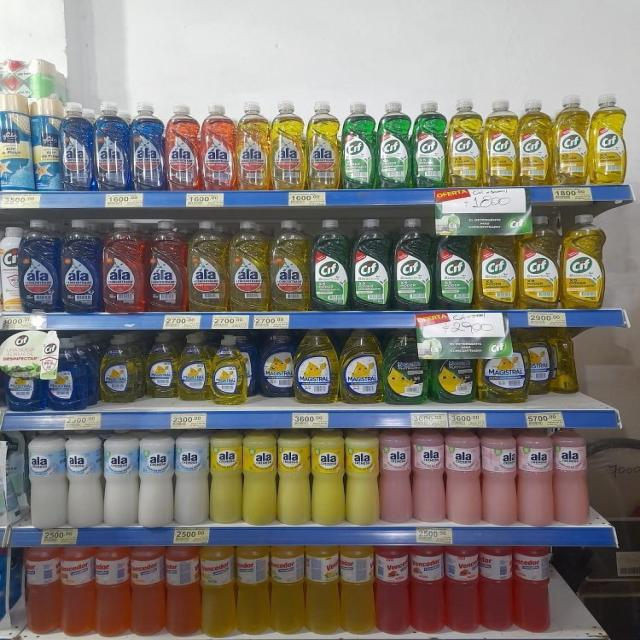ala_conc_amarillo: (228, 219, 268, 312), (270, 219, 310, 312), (187, 220, 227, 312), (272, 99, 306, 190), (307, 99, 340, 190), (237, 99, 270, 190)
ala_conc_azul: (60, 218, 101, 314), (20, 218, 59, 312), (94, 100, 130, 191), (130, 100, 164, 190), (61, 100, 93, 190)
ala_conc_rojo: (102, 218, 144, 314), (146, 218, 186, 314), (165, 102, 200, 192), (202, 102, 236, 191)
ala_crem_amarillo: (277, 433, 311, 526), (312, 432, 344, 527), (346, 431, 378, 526), (243, 434, 276, 526), (210, 434, 241, 525)
ala_crem_blanco: (27, 435, 65, 529), (66, 436, 102, 528), (138, 436, 173, 527), (104, 436, 138, 527), (174, 436, 208, 527)
ala_crem_rosado: (554, 432, 591, 527), (446, 430, 481, 526), (518, 430, 552, 527), (482, 431, 516, 526), (413, 430, 445, 524), (380, 432, 411, 524)
cif_conc_bot_amarilla: (562, 212, 606, 310), (519, 214, 560, 310), (476, 221, 516, 310), (591, 92, 628, 184), (554, 93, 590, 185), (448, 96, 483, 188), (518, 96, 552, 186), (485, 97, 517, 187)
cif_conc_botella_verde: (351, 217, 391, 311), (434, 216, 474, 310), (392, 217, 432, 310), (311, 218, 349, 311), (412, 99, 446, 188), (342, 100, 376, 189), (377, 100, 411, 189)
magistral_con_amarillo: (340, 328, 383, 404), (295, 328, 338, 404), (99, 333, 142, 404), (211, 333, 251, 405), (177, 332, 210, 402), (145, 331, 176, 400)
magistral_con_azul: (45, 335, 94, 411)
vencedor: (515, 546, 553, 633), (94, 547, 130, 638), (24, 546, 60, 635), (201, 546, 235, 638), (166, 546, 200, 638), (340, 545, 374, 635), (236, 546, 270, 635), (306, 546, 340, 635), (61, 546, 94, 637), (445, 546, 479, 634), (410, 546, 444, 634), (131, 547, 164, 637), (376, 546, 409, 635), (271, 546, 304, 635), (480, 546, 513, 632)
